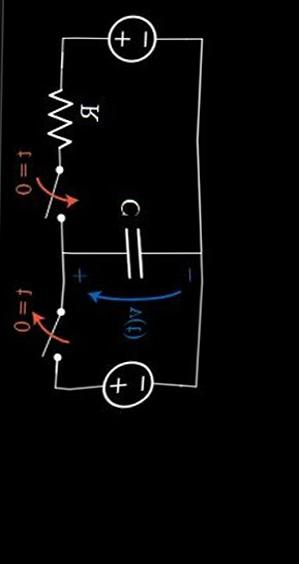Battery: (84, 344, 164, 419), (91, 4, 168, 61)
